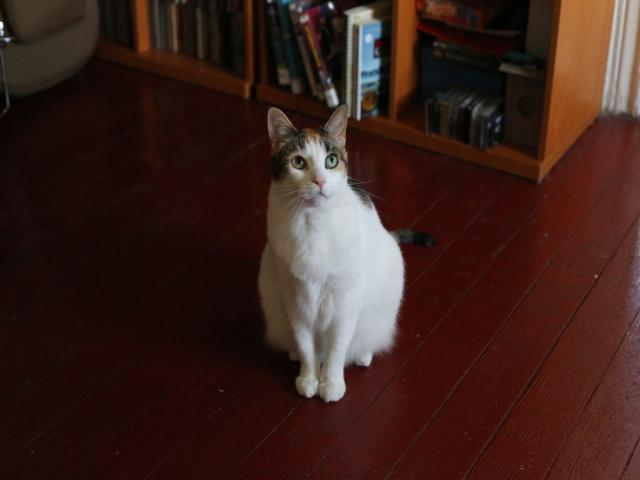Cat: (262, 103, 406, 412)
